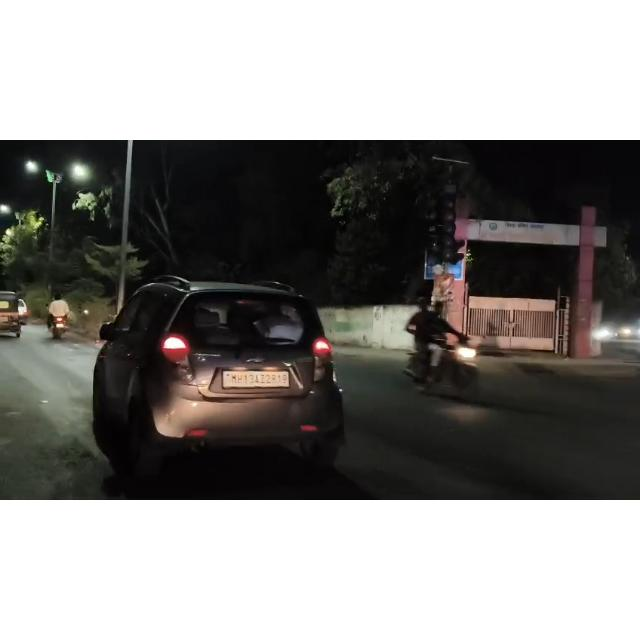auto: (0, 285, 30, 341)
car: (84, 266, 354, 490)
